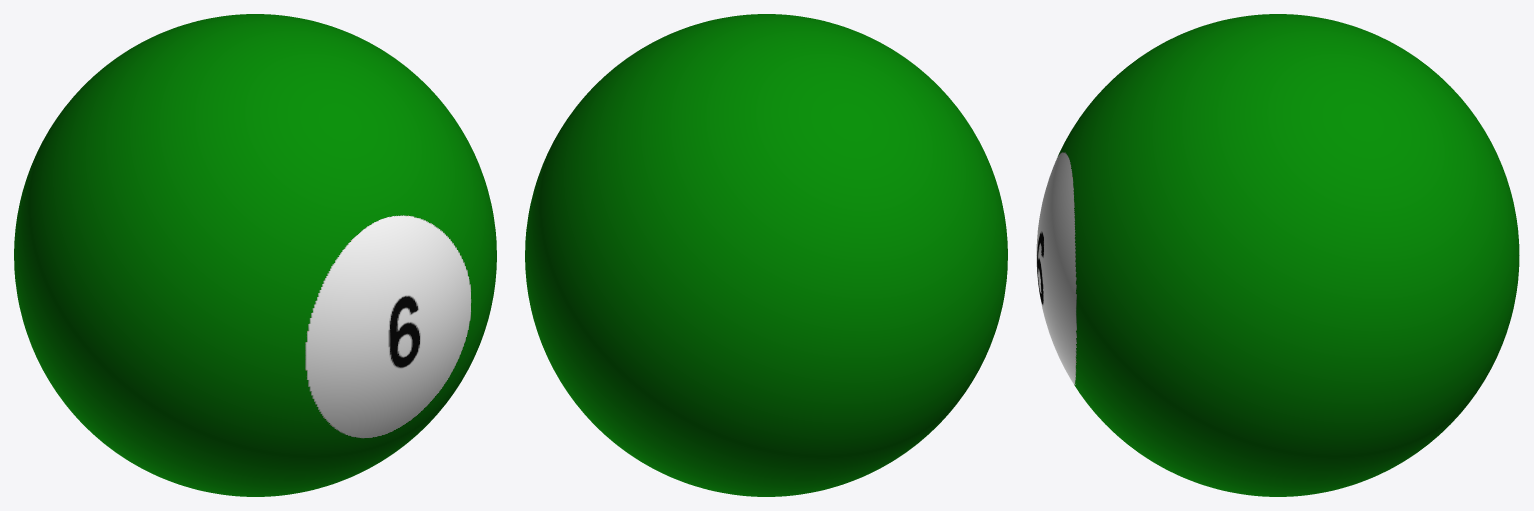
The model's file is 6ball.obj.
The picture shows the model from 3 angles, left to right: view 1: azimuth 30°, elevation 25°; view 2: azimuth 150°, elevation 25°; view 3: azimuth 270°, elevation 25°; orthographic projection.
Visible parts, largest first — view 1: moon_Sphere; view 2: moon_Sphere; view 3: moon_Sphere.
Part boxes in pixels (bbox=[...]): moon_Sphere: bbox=[14, 14, 496, 496]; moon_Sphere: bbox=[525, 14, 1007, 496]; moon_Sphere: bbox=[1036, 14, 1519, 496].
Bounding box in the file's own units: 2 × 2 × 2.
1 material, 1 textured.
